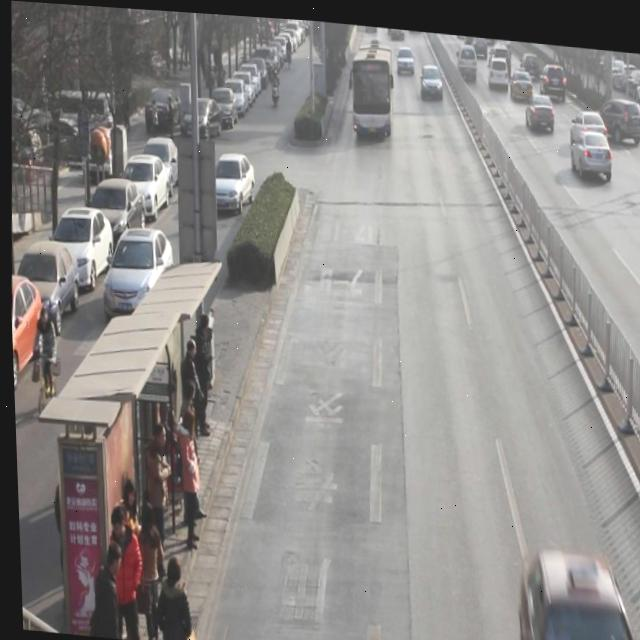car: (513, 548, 640, 640), (97, 222, 176, 320), (202, 145, 255, 213), (597, 86, 640, 141), (569, 121, 612, 173), (568, 101, 608, 139), (524, 86, 556, 127), (537, 54, 566, 95), (420, 58, 444, 97), (508, 61, 533, 96), (487, 48, 510, 83), (491, 36, 511, 64), (396, 41, 414, 71), (520, 45, 540, 69), (472, 30, 488, 52), (495, 31, 511, 48), (390, 23, 404, 37), (465, 29, 478, 38), (364, 21, 375, 27)
truck: (455, 38, 478, 76)
van: (347, 32, 392, 135)
